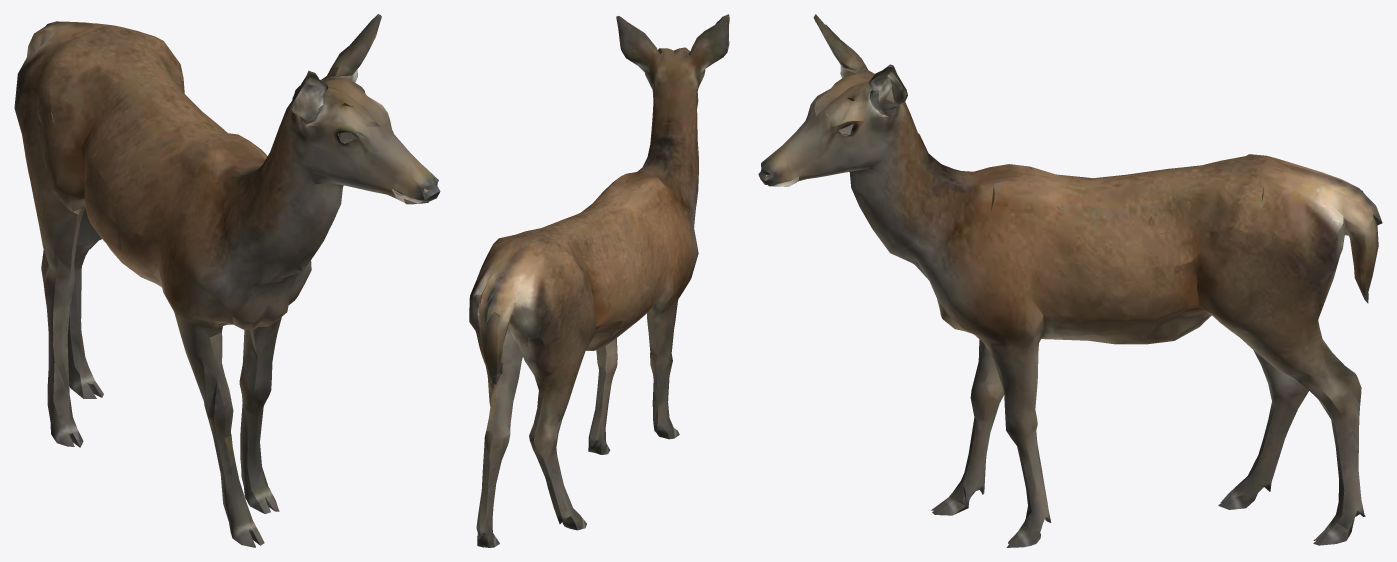
File: deer-hind.phone.glb
The picture shows the model from 3 angles, left to right: view 1: azimuth 30°, elevation 25°; view 2: azimuth 150°, elevation 25°; view 3: azimuth 270°, elevation 25°; orthographic projection. The views are drawn at different scales.
Parts seen in each view (by area): view 1: deer-hind; view 2: deer-hind; view 3: deer-hind.
Boxes of the visible parts, <box> form: deer-hind: <box>14,14,440,547</box>; deer-hind: <box>469,14,729,547</box>; deer-hind: <box>758,14,1382,547</box>.
Bounding box in the file's own units: 0.6129 × 2 × 2.25.
1 material, 1 textured.
